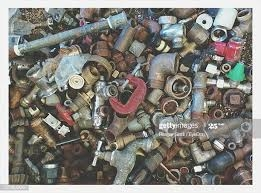metal: (11, 8, 133, 73), (87, 133, 159, 187), (87, 75, 119, 132), (7, 116, 34, 183), (189, 63, 218, 125), (146, 48, 184, 93), (27, 112, 62, 152), (207, 33, 249, 65), (210, 139, 252, 168), (185, 139, 223, 167), (163, 71, 196, 102), (155, 20, 192, 42), (185, 19, 212, 49), (35, 159, 67, 184), (17, 81, 44, 109), (156, 95, 183, 117), (230, 164, 253, 185), (152, 38, 176, 54), (155, 11, 181, 25)
